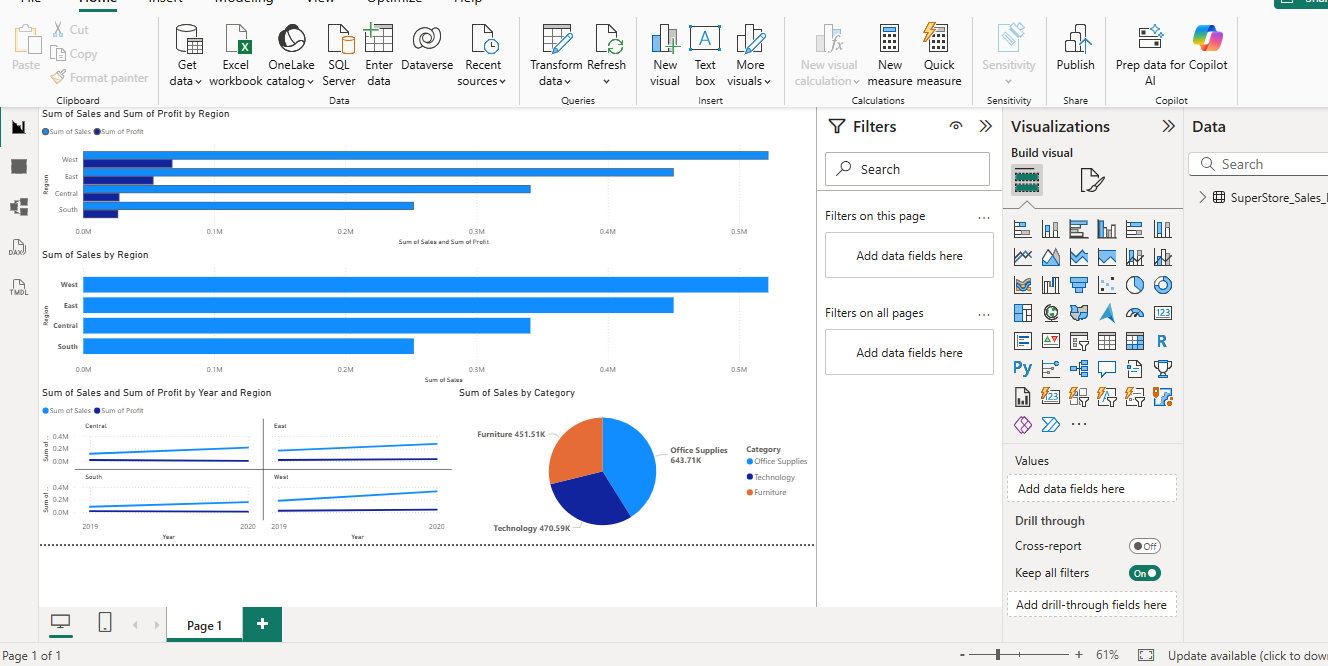

Layout of this report page (visuals, bound fields, positions):
{"tool":"powerbi","page":{"name":"Page 1","canvas":[1280,720],"ordinal":0},"visuals":[{"type":"barChart","fields":{"Category":["SuperStore_Sales_Dataset.Region"],"Y":["Sum(SuperStore_Sales_Dataset.Sales)"]},"box":[0,232.3,1280,227.3],"z":0},{"type":"pieChart","fields":{"Category":["SuperStore_Sales_Dataset.Category"],"Y":["Sum(SuperStore_Sales_Dataset.Sales)"]},"box":[686.9,459.6,593.1,260.3],"z":1000},{"type":"lineChart","fields":{"Y":["Sum(SuperStore_Sales_Dataset.Sales)","Sum(SuperStore_Sales_Dataset.Profit)"],"Category":["SuperStore_Sales_Dataset.Order Date.Variation.Date Hierarchy.Year","SuperStore_Sales_Dataset.Order Date.Variation.Date Hierarchy.Quarter","SuperStore_Sales_Dataset.Order Date.Variation.Date Hierarchy.Month","SuperStore_Sales_Dataset.Order Date.Variation.Date Hierarchy.Day"],"Rows":["SuperStore_Sales_Dataset.Region"]},"box":[0,459.6,686.9,260.3],"z":2000},{"type":"clusteredBarChart","fields":{"Y":["Sum(SuperStore_Sales_Dataset.Sales)","Sum(SuperStore_Sales_Dataset.Profit)"],"Category":["SuperStore_Sales_Dataset.Region"]},"box":[0,0,1280,232.3],"z":3000}]}

Visuals, with their boxes on the page's 1280x720 design canvas (x1, y1, x2, y2). These are canvas units, not pixel positions in the 1328x666 screenshot, which may show the page scaled, cropped or inside an application window:
barChart - SuperStore_Sales_Dataset.Region x Sum(SuperStore_Sales_Dataset.Sales): [0, 232, 1280, 460]
pieChart - SuperStore_Sales_Dataset.Category x Sum(SuperStore_Sales_Dataset.Sales): [687, 460, 1280, 720]
lineChart - Sum(SuperStore_Sales_Dataset.Sales) x Sum(SuperStore_Sales_Dataset.Profit): [0, 460, 687, 720]
clusteredBarChart - Sum(SuperStore_Sales_Dataset.Sales) x Sum(SuperStore_Sales_Dataset.Profit): [0, 0, 1280, 232]
